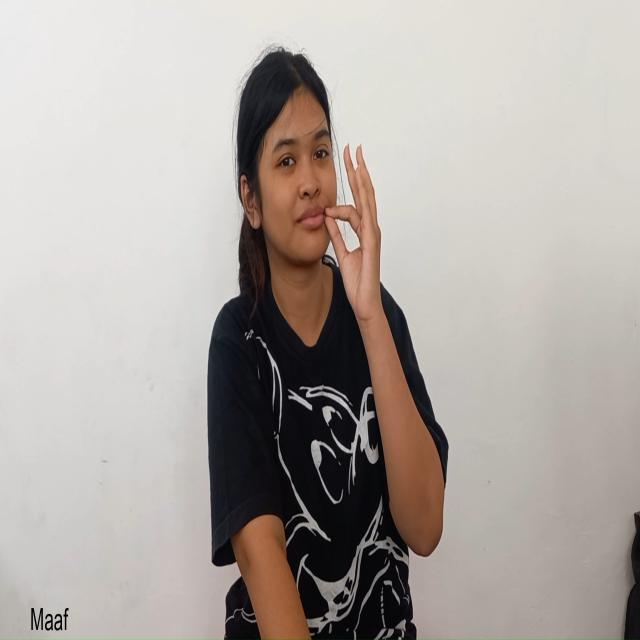Maaf -BISINDO-: (231, 36, 390, 392)
